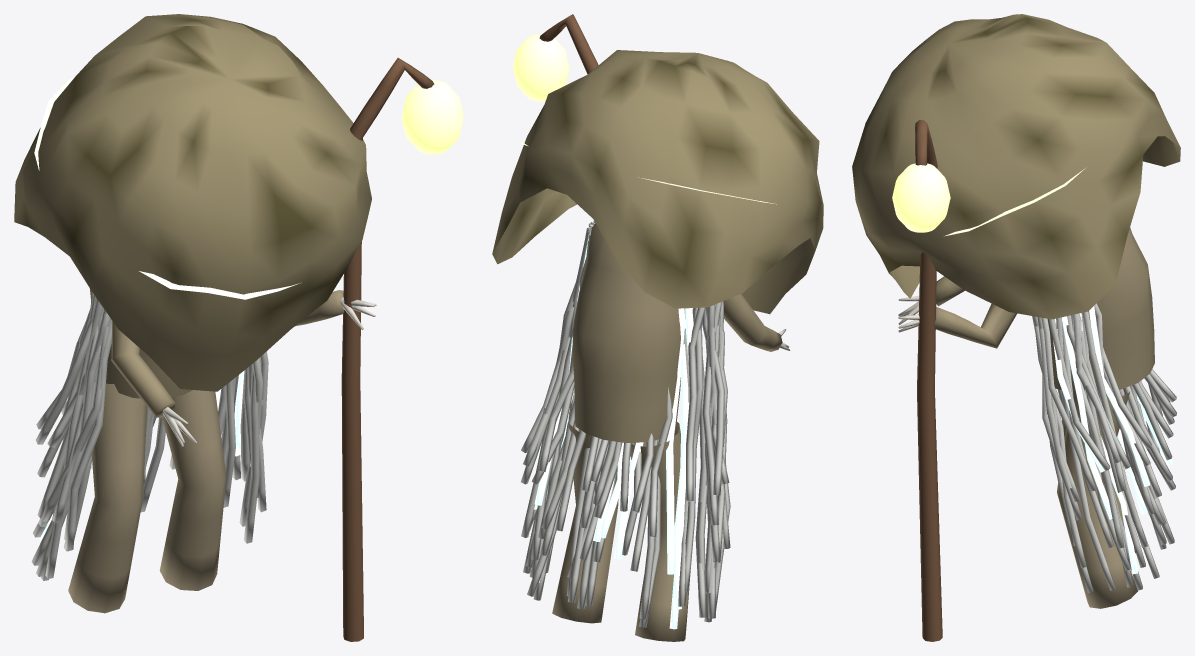
Rendered from rot_shepherd.glb.
3 views of the same model, side by side, from view 1: azimuth 30°, elevation 25°; view 2: azimuth 150°, elevation 25°; view 3: azimuth 270°, elevation 25° (orthographic). The views are drawn at different scales.
Visible parts, largest first — view 1: RotShepherd; view 2: RotShepherd; view 3: RotShepherd.
Part boxes in pixels (x1=…): RotShepherd: x1=14, y1=14, x2=463, y2=641; RotShepherd: x1=492, y1=14, x2=823, y2=641; RotShepherd: x1=852, y1=14, x2=1180, y2=641.
Size of the model in its own units: 1.74 by 2.76 by 1.46.
